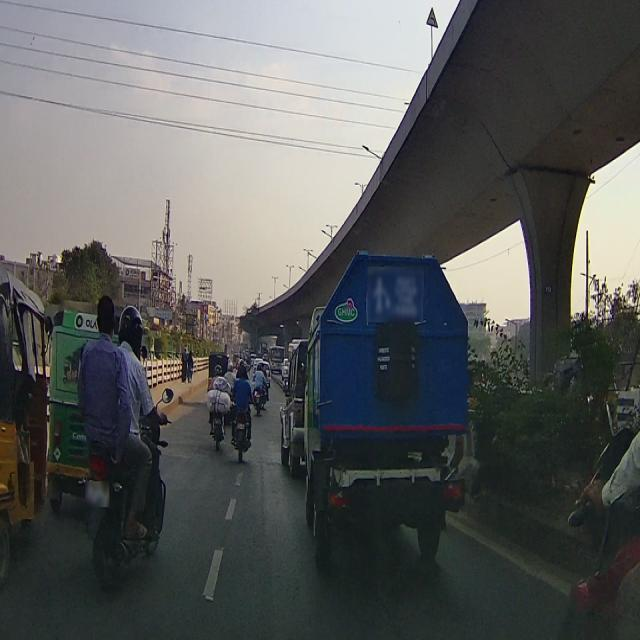left-hand-curve: (426, 6, 440, 32)
